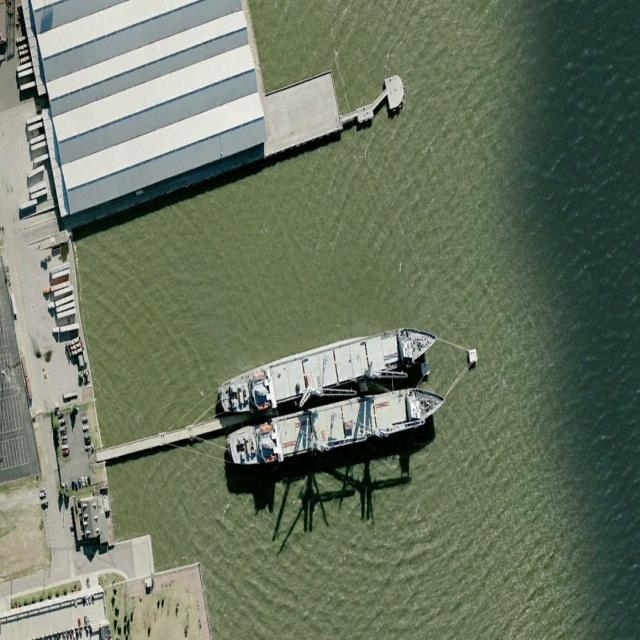Cargo: (215, 315, 440, 422), (224, 378, 448, 472)
